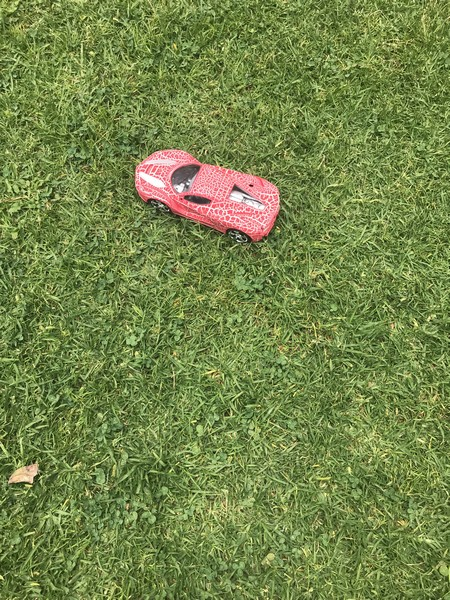RC: (133, 144, 282, 247)
